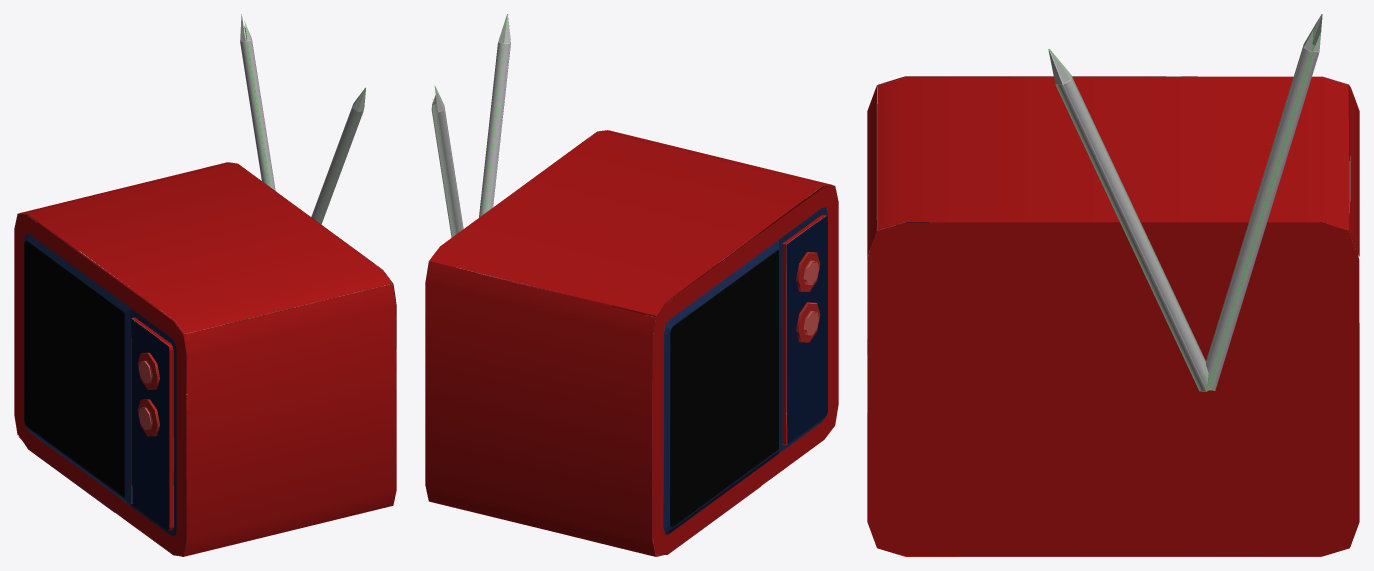
File: television.fbx
3 views of the same model, side by side, from view 1: azimuth 30°, elevation 25°; view 2: azimuth 150°, elevation 25°; view 3: azimuth 270°, elevation 25° (orthographic). The views are drawn at different scales.
Visible parts, largest first — view 1: Box001, Cylinder001, Cylinder002; view 2: Box001, Cylinder002, Cylinder001; view 3: Box001, Cylinder002, Cylinder001.
Part boxes in pixels (box(x1,y1,x2,y2)): Box001: box(14, 162, 396, 556); Cylinder001: box(240, 14, 275, 190); Cylinder002: box(311, 87, 365, 224); Box001: box(425, 130, 838, 556); Cylinder002: box(479, 14, 510, 217); Cylinder001: box(431, 85, 463, 237); Box001: box(867, 76, 1359, 556); Cylinder002: box(1048, 48, 1208, 391); Cylinder001: box(1206, 14, 1322, 390).
Bounding box in the file's own units: 21.87 × 31.33 × 25.6.
4 materials, 4 textured.
